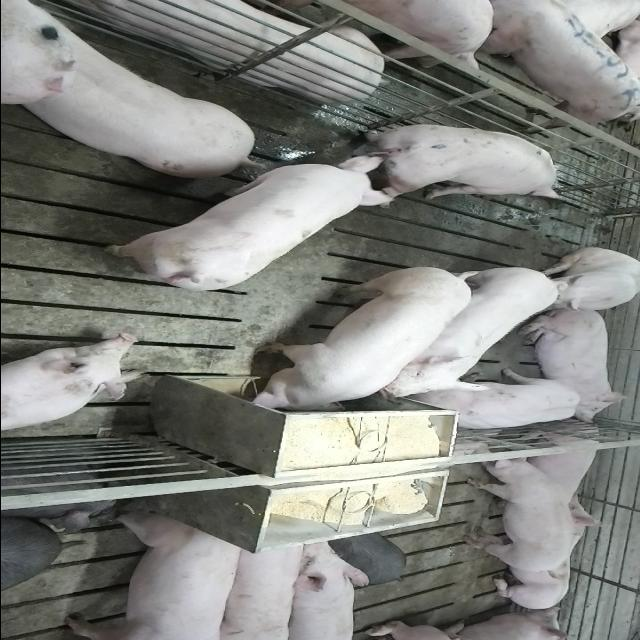Feeding: (246, 270, 474, 422)
Sitting: (530, 248, 640, 314)
Standing: (6, 6, 263, 182), (91, 157, 392, 297), (373, 262, 562, 398), (59, 509, 250, 639), (470, 0, 640, 125), (353, 122, 569, 205), (462, 451, 568, 576), (210, 536, 308, 638), (284, 534, 369, 636), (426, 374, 578, 428)
Sternal_lying: (26, 0, 400, 100), (0, 335, 140, 437), (484, 496, 610, 608), (512, 310, 628, 422), (519, 427, 605, 502)
